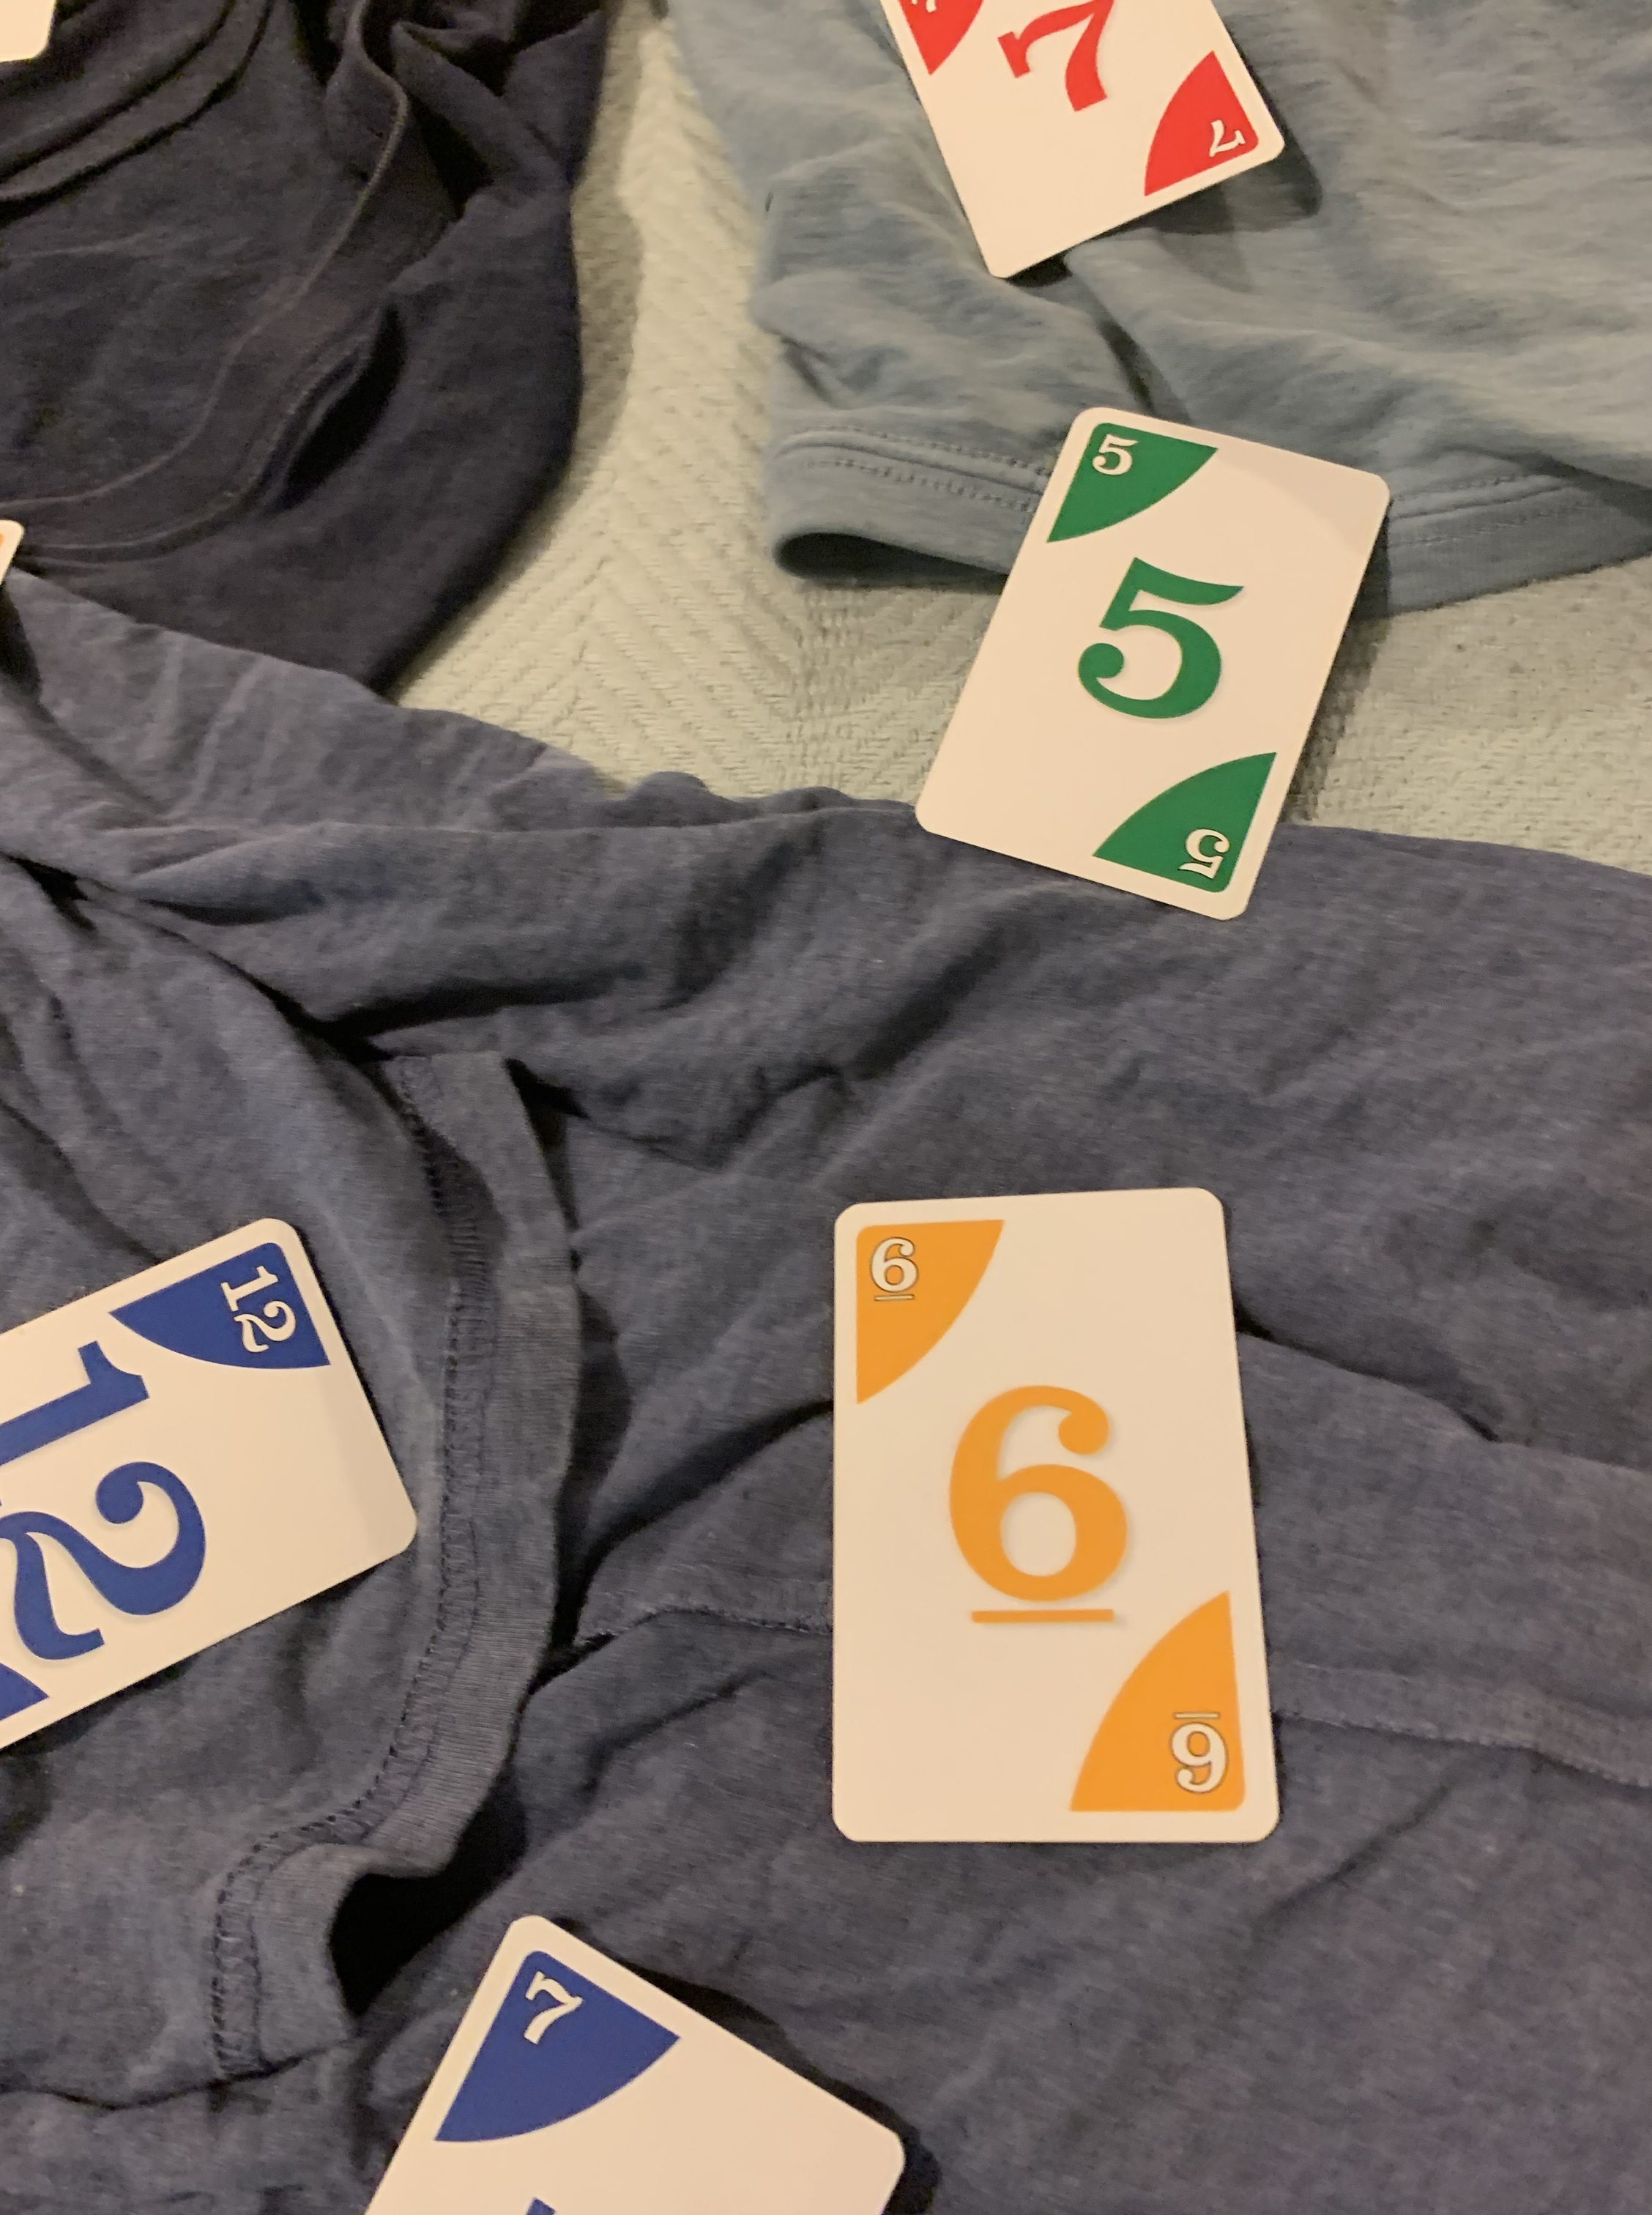five: (909, 401, 1393, 925)
seven: (868, 0, 1291, 290)
six: (812, 1184, 1281, 1842)
twelve: (0, 1208, 427, 1764)
